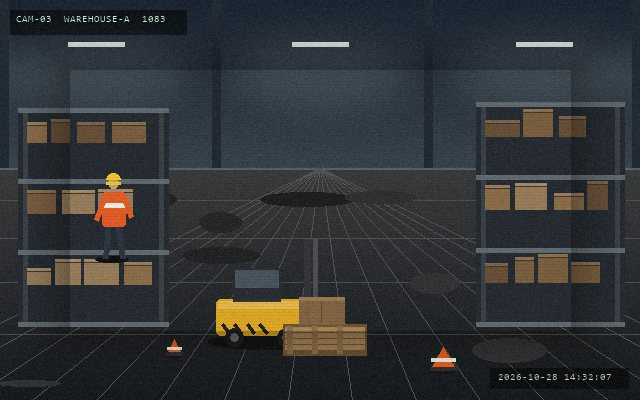cone: (256, 196, 384, 204), (429, 345, 457, 373)
forklift: (212, 237, 347, 349)
pallet: (281, 322, 368, 357)
person: (94, 171, 133, 261)
shelf: (476, 102, 624, 322), (18, 108, 168, 322)
